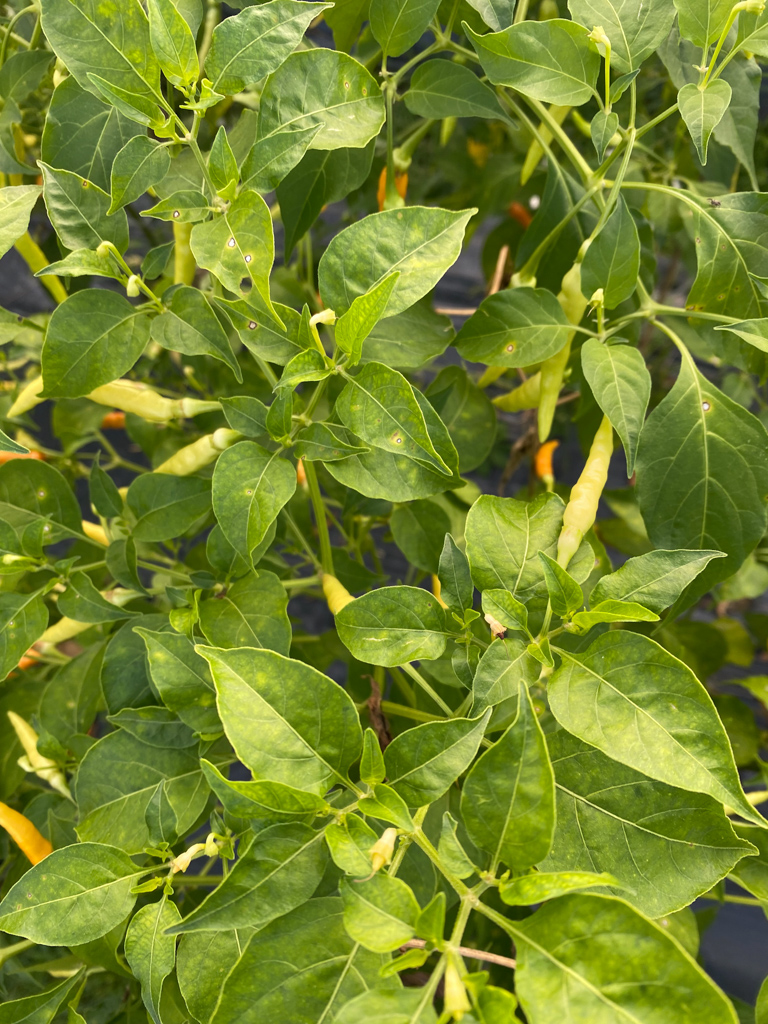frog-eye leafspot: (219, 230, 257, 267), (31, 486, 59, 505), (695, 390, 713, 416), (242, 316, 261, 335), (390, 432, 408, 449), (502, 342, 522, 356), (167, 208, 182, 218), (80, 178, 89, 191)
